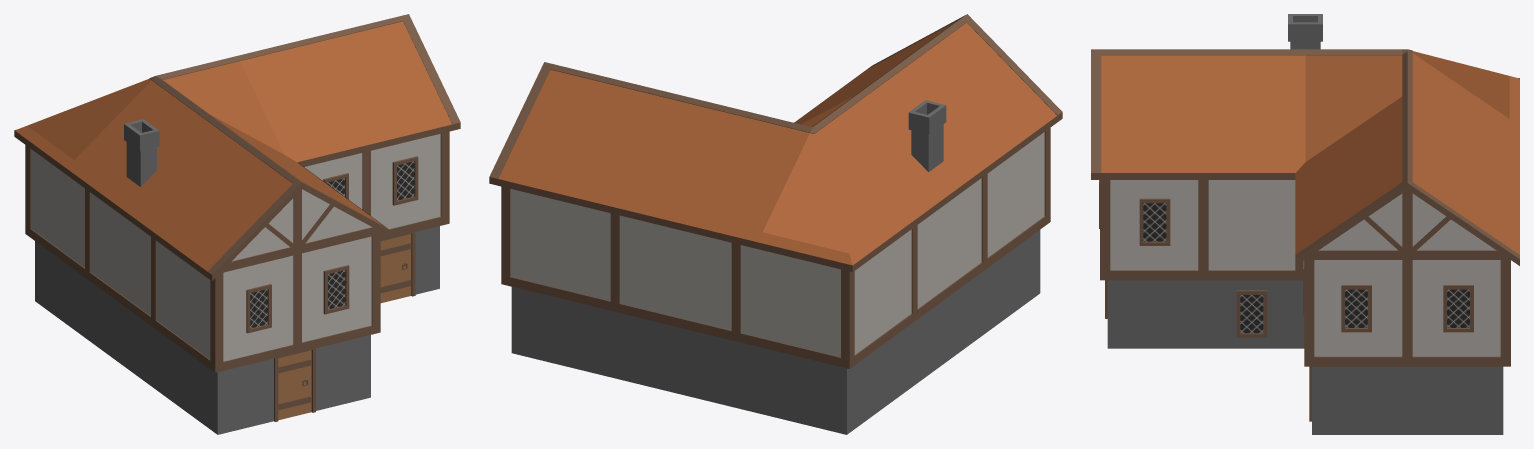
File: SPW_Medieval_Bldg_06.glb
The picture shows the model from 3 angles, left to right: view 1: azimuth 30°, elevation 25°; view 2: azimuth 150°, elevation 25°; view 3: azimuth 270°, elevation 25°; orthographic projection. The views are drawn at different scales.
Parts seen in each view (by area): view 1: SPW_Medieval_Bldg_06; view 2: SPW_Medieval_Bldg_06; view 3: SPW_Medieval_Bldg_06.
Boxes of the visible parts, x1,y1,x2,y2 form: SPW_Medieval_Bldg_06: [14, 14, 460, 434]; SPW_Medieval_Bldg_06: [489, 14, 1062, 434]; SPW_Medieval_Bldg_06: [1091, 14, 1519, 434].
Size of the model in its own units: 8.4 by 5.6 by 8.4.
Materials: 1 (1 with a texture image).
